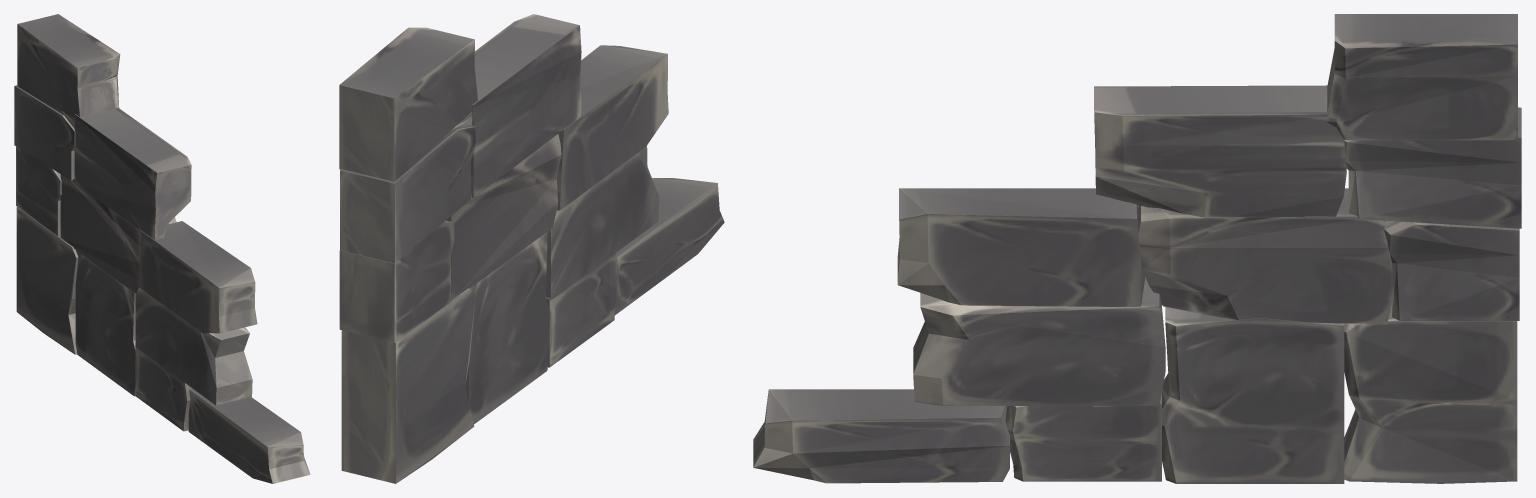
Rendered from shiqiang03.fbx.
3 renders of one model, left to right at view 1: azimuth 30°, elevation 25°; view 2: azimuth 150°, elevation 25°; view 3: azimuth 270°, elevation 25°, orthographic. The views are drawn at different scales.
Parts seen in each view (by area): view 1: duanqiang02; view 2: duanqiang02; view 3: duanqiang02.
Boxes of the visible parts, bbox=[...] form: duanqiang02: bbox=[14, 14, 310, 483]; duanqiang02: bbox=[339, 14, 724, 483]; duanqiang02: bbox=[753, 14, 1521, 483].
Size of the model in its own units: 30.83 by 174 by 275.
Materials: 1 (1 with a texture image).
